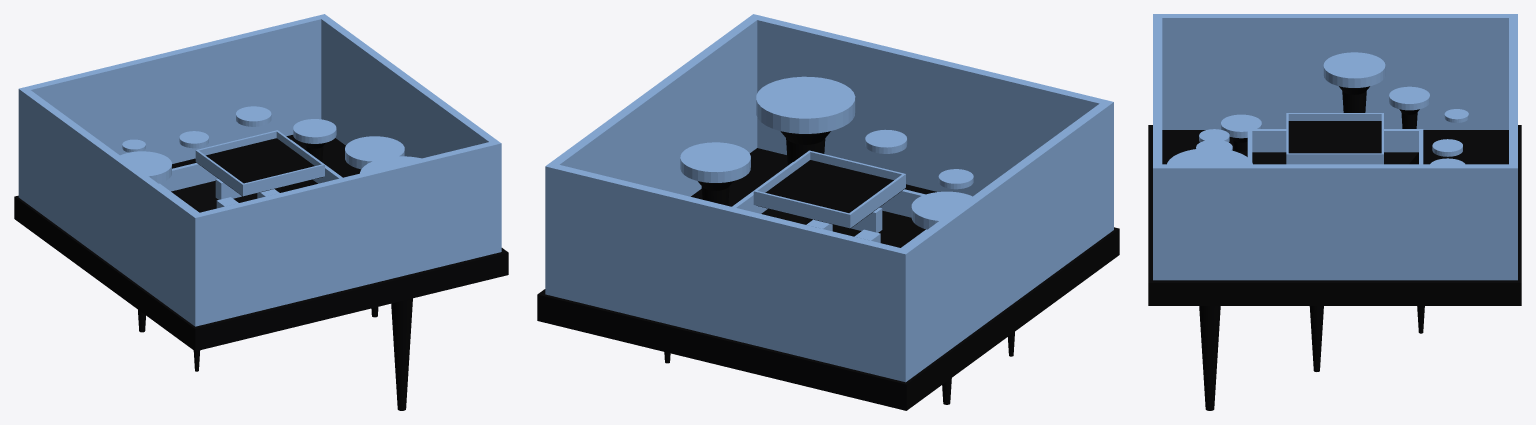
File: iansmap 1.glb
3 views of the same model, side by side, from view 1: azimuth 30°, elevation 25°; view 2: azimuth 150°, elevation 25°; view 3: azimuth 270°, elevation 25° (orthographic). The views are drawn at different scales.
Parts seen in each view (by area): view 1: Cube.013, Cube.012, Cube.010, Cube.011, Cylinder.010, Cylinder.007, Cube, Cube.001, Cylinder.005, Cylinder.009, Cylinder.017, Cylinder.011 (+1 smaller); view 2: Cube.013, Cube.012, Cylinder.011, Cube.010, Cube.011, Cylinder.007, Cube, Cylinder.005, Cube.001, Cylinder.010, Cylinder.015, Cylinder.014 (+1 smaller); view 3: Cube.013, Cube.012, Cube.010, Cube.011, Cube.001, Cylinder.005, Cylinder.010, Cylinder.011, Cube, Cylinder.019, Cylinder.013, Cylinder.006 (+2 smaller).
Part boxes in pixels (box(x1,y1,x2,y2)): Cube.013: box(18, 14, 501, 326); Cube.012: box(14, 135, 508, 351); Cube.010: box(197, 138, 322, 196); Cube.011: box(195, 130, 324, 196); Cylinder.010: box(391, 298, 412, 410); Cylinder.007: box(345, 136, 404, 169); Cube: box(171, 179, 317, 212); Cube.001: box(159, 140, 342, 212); Cylinder.005: box(120, 151, 171, 183); Cylinder.009: box(293, 119, 336, 143); Cylinder.017: box(236, 106, 271, 126); Cylinder.011: box(360, 156, 421, 173); Cube.013: box(545, 14, 1113, 382); Cube.012: box(537, 148, 1119, 410); Cylinder.011: box(756, 76, 855, 133); Cube.010: box(758, 160, 904, 228); Cube.011: box(753, 150, 905, 228); Cylinder.007: box(680, 142, 750, 182); Cube: box(761, 208, 925, 247); Cylinder.005: box(911, 191, 972, 229); Cube.001: box(732, 162, 926, 248); Cylinder.010: box(780, 131, 830, 165); Cylinder.015: box(865, 129, 907, 153); Cylinder.014: box(938, 169, 973, 189); Cube.013: box(1153, 14, 1517, 280); Cube.012: box(1148, 125, 1521, 305); Cube.010: box(1288, 121, 1381, 153); Cube.011: box(1286, 113, 1383, 164); Cube.001: box(1247, 129, 1423, 164); Cylinder.005: box(1323, 52, 1385, 87); Cylinder.010: box(1199, 306, 1220, 410); Cylinder.011: box(1167, 148, 1252, 164); Cube: box(1252, 152, 1418, 164); Cylinder.019: box(1389, 86, 1429, 110); Cylinder.013: box(1221, 114, 1261, 138); Cylinder.006: box(1309, 306, 1323, 371).
Bounding box in the file's own units: 76.64 × 62.73 × 76.64.
